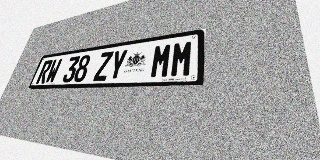3: (61, 56, 81, 83)
8: (72, 54, 92, 82)
M: (169, 40, 194, 78), (149, 43, 173, 78)
R: (36, 60, 53, 84)
W: (44, 58, 63, 83)
Y: (107, 49, 128, 80)
Z: (93, 51, 114, 81)
